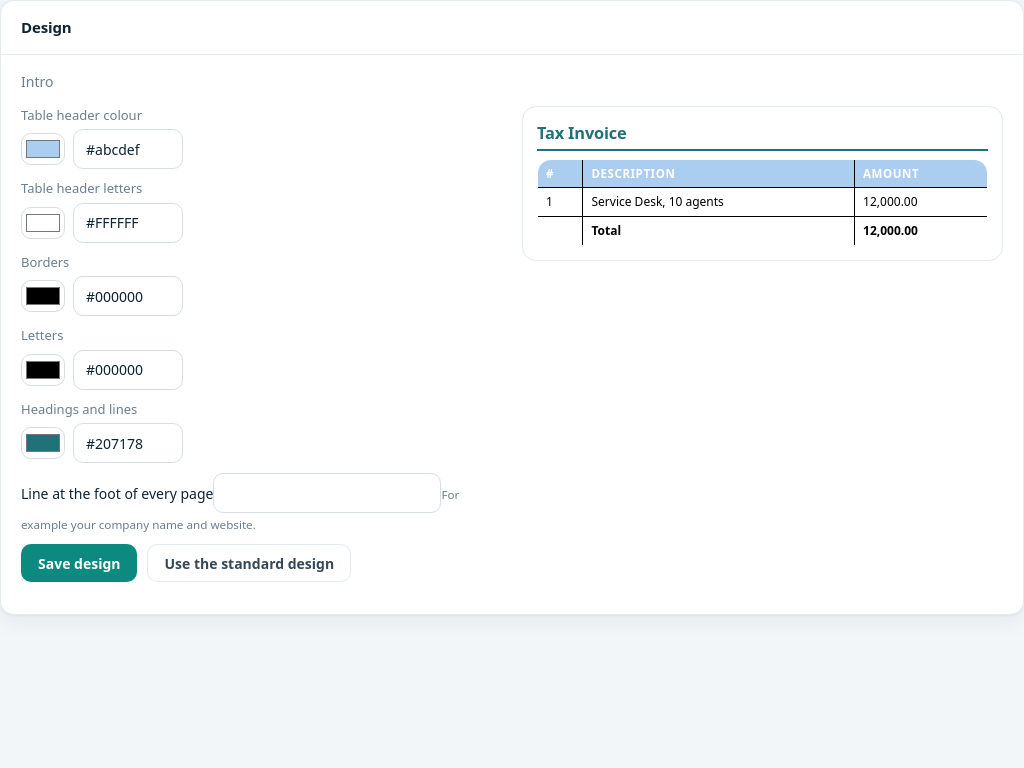
the standard design button restores the logo teal; the note field only shows for invoices
The image size is (1024, 768).
Expected: the field named "Table header colour" holds "#abcdef", [73, 129, 183, 169]
Click the button "Use the standard design" at (249, 563), box [148, 544, 351, 582]
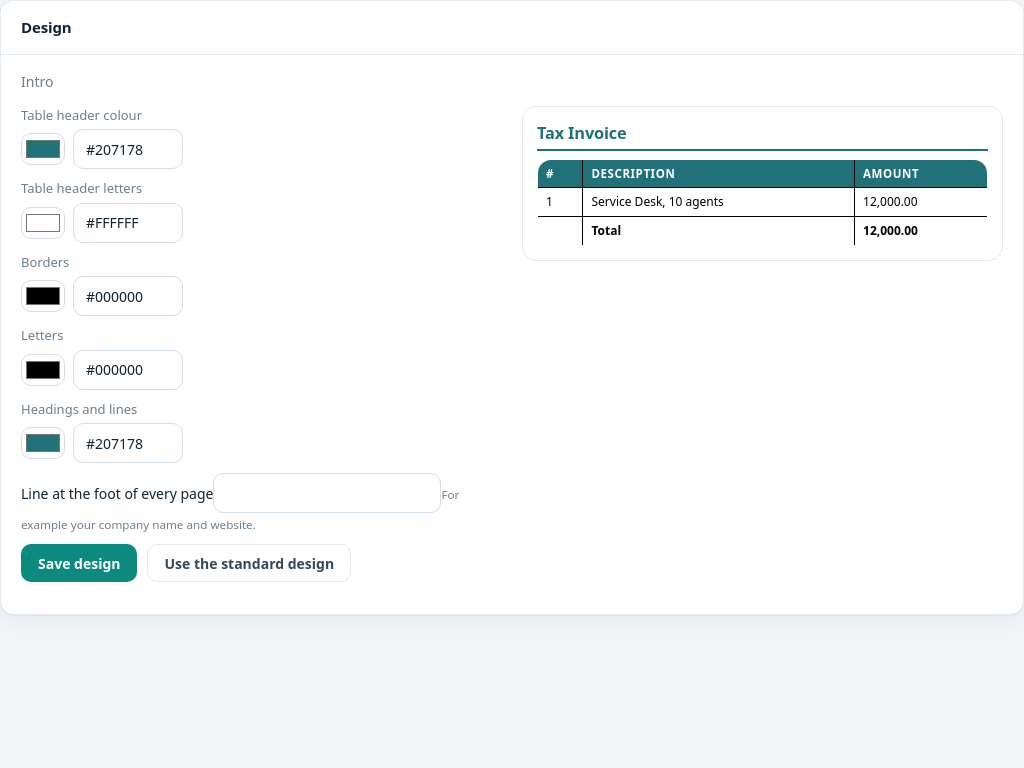
Expected: the field named "Table header colour" holds "#207178", [73, 129, 183, 169]
